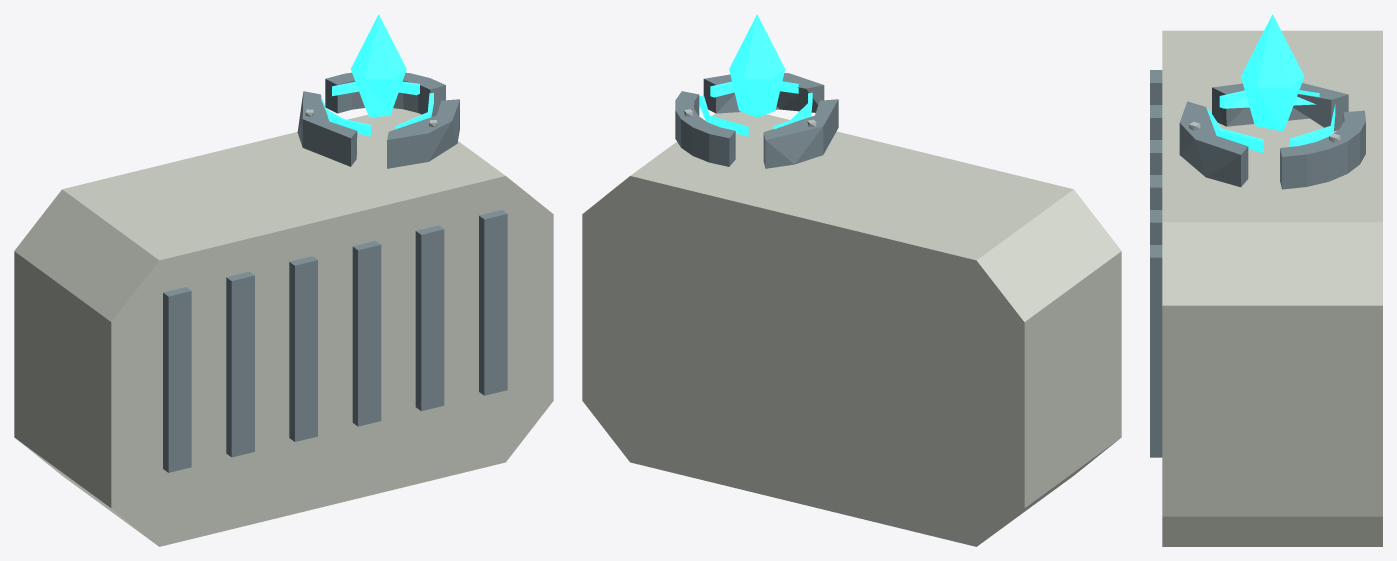
File: Utility_HVAC.glb
3 views of the same model, side by side, from view 1: azimuth 30°, elevation 25°; view 2: azimuth 150°, elevation 25°; view 3: azimuth 270°, elevation 25° (orthographic). The views are drawn at different scales.
Parts seen in each view (by area): view 1: Utility_HVAC_Housing, Utility_HVAC_Grille, Utility_HVAC_Exhaust; view 2: Utility_HVAC_Housing, Utility_HVAC_Exhaust; view 3: Utility_HVAC_Housing, Utility_HVAC_Exhaust, Utility_HVAC_Grille.
Boxes of the visible parts, x1=… form: Utility_HVAC_Housing: x1=14, y1=108, x2=553, y2=546; Utility_HVAC_Grille: x1=163, y1=210, x2=507, y2=472; Utility_HVAC_Exhaust: x1=297, y1=14, x2=459, y2=168; Utility_HVAC_Housing: x1=582, y1=112, x2=1121, y2=546; Utility_HVAC_Exhaust: x1=675, y1=14, x2=838, y2=168; Utility_HVAC_Housing: x1=1162, y1=30, x2=1382, y2=546; Utility_HVAC_Exhaust: x1=1179, y1=14, x2=1365, y2=189; Utility_HVAC_Grille: x1=1150, y1=70, x2=1162, y2=457.
Size of the model in its own units: 2.1 by 1.96 by 0.845.
